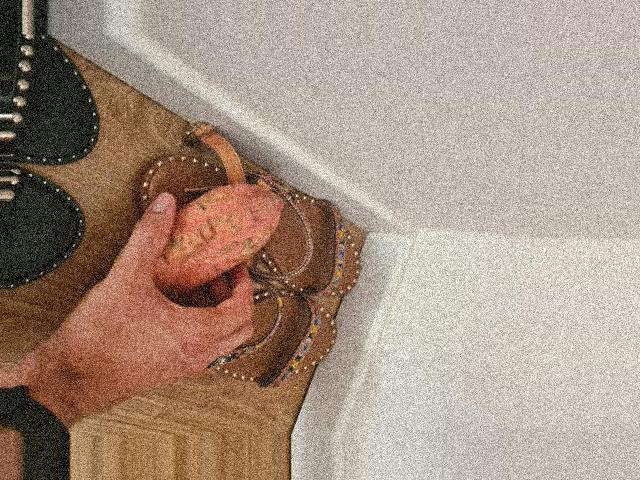sweet_potato: (147, 185, 284, 291)
